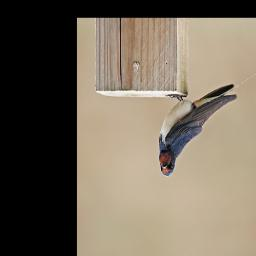Swallow: (157, 69, 256, 180)
